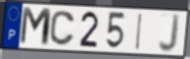2: (79, 10, 100, 49)
5: (105, 11, 128, 50)
C: (48, 10, 76, 48)
I: (134, 12, 144, 52)
J: (157, 13, 182, 54)
M: (18, 6, 54, 48)
